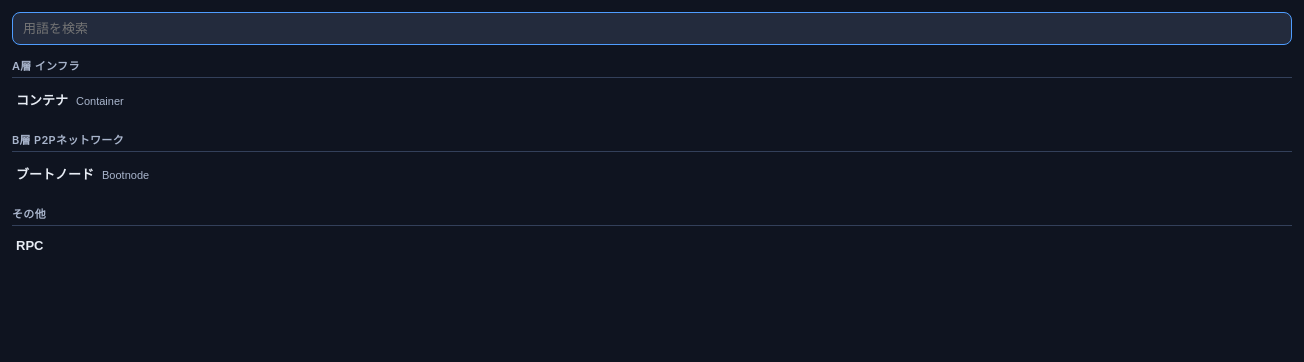
Scenario: GlossaryPanelView: single-expansion accordion › collapses the previously expanded row when a different row is expanded (only one open at a time)
What coordinates should you click on to do the following:
click the button with class "glossary-panel__row-header" showing "コンテナ Container"
I would click on:
 (42, 100)
Its box is [12,82,1292,117].
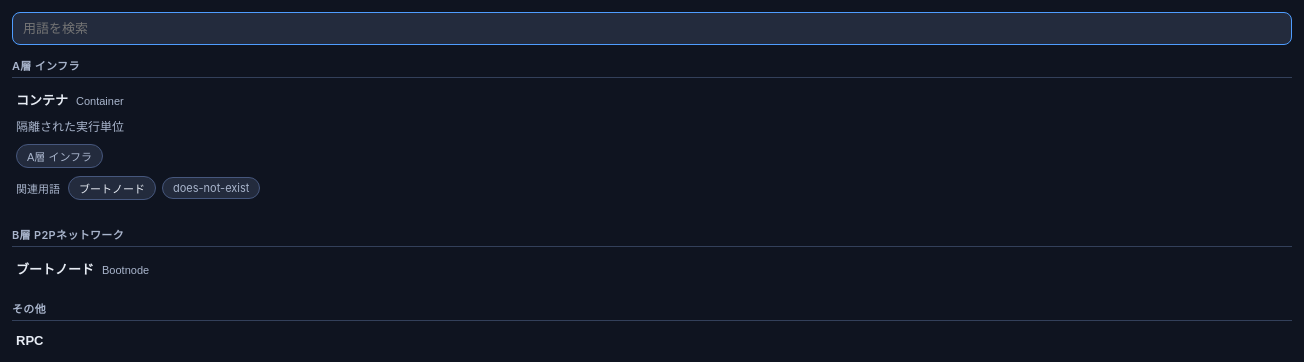
What coordinates should you click on to do the following:
click the button with class "glossary-panel__row-header" showing "ブートノード Bootnode"
I would click on:
 (55, 270)
Its box is [12,251,1292,286].
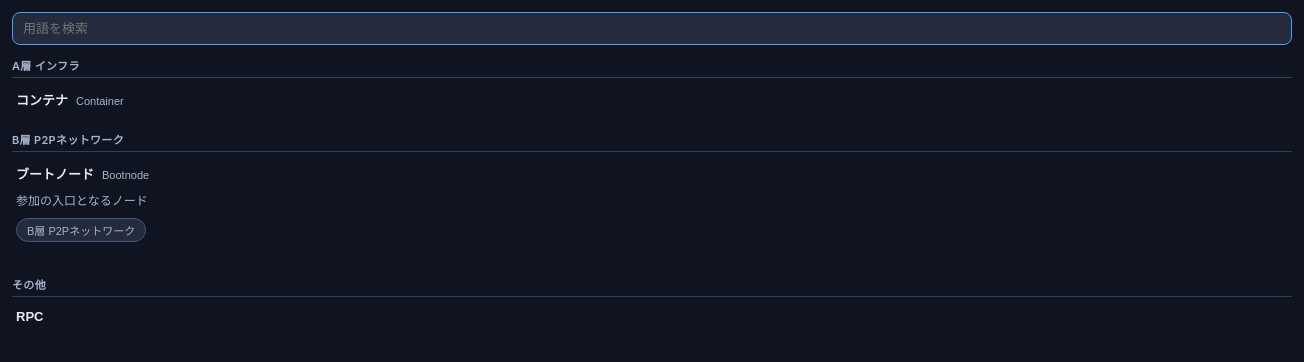
expect the button with class "glossary-panel__row-header" is expanded: met, box [12,156,1292,191]
